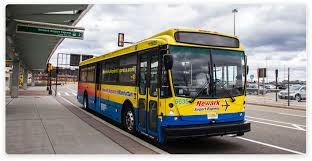bus: (75, 27, 252, 146)
